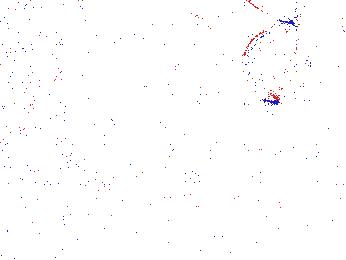moon jellyfish: (173, 14, 248, 114), (1, 7, 118, 60), (240, 23, 300, 104)
